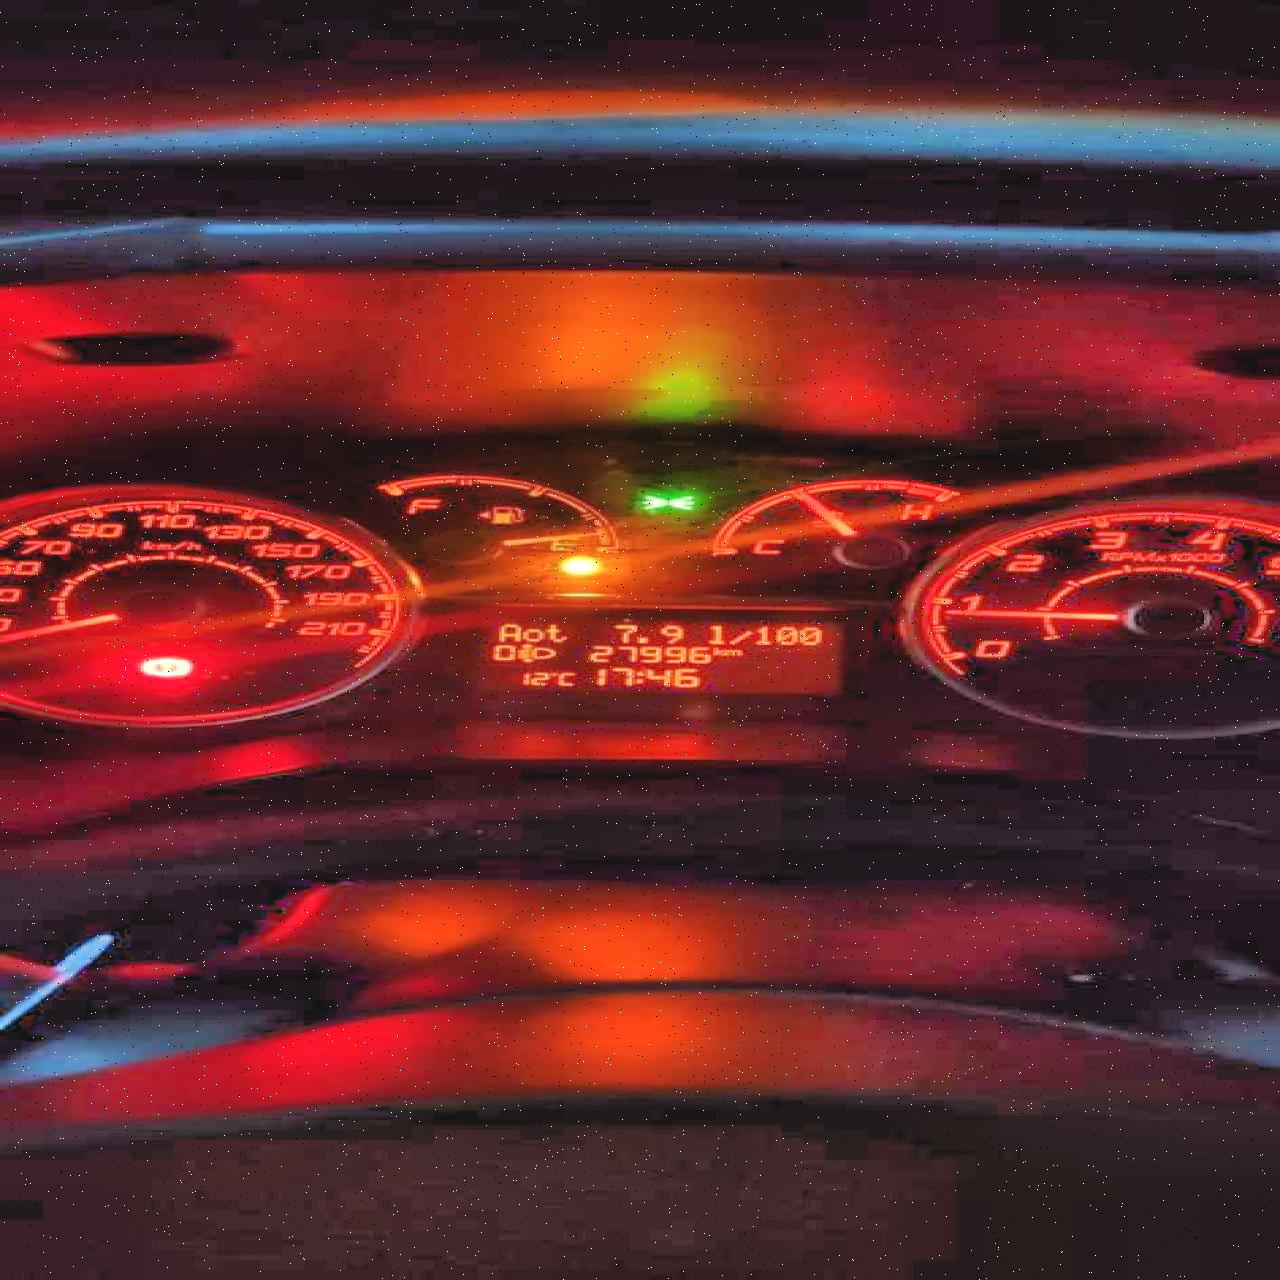-: (634, 635, 651, 644)
0: (797, 625, 818, 645), (776, 624, 795, 646), (491, 642, 512, 660)
1: (751, 624, 772, 646), (594, 667, 605, 688), (518, 672, 529, 688)
2: (586, 644, 611, 662), (529, 670, 549, 686)
4: (644, 667, 670, 687)
6: (673, 667, 696, 688), (686, 645, 710, 663)
7: (611, 622, 635, 642), (611, 665, 632, 686), (613, 644, 638, 661)
9: (659, 624, 683, 644), (638, 644, 662, 662), (662, 645, 683, 662)
X: (543, 622, 570, 641), (496, 621, 520, 641), (704, 622, 724, 645), (520, 626, 543, 641), (727, 629, 748, 645), (556, 672, 576, 687), (721, 647, 743, 655), (710, 646, 722, 655), (635, 668, 640, 682)
odometer: (477, 611, 844, 695)
